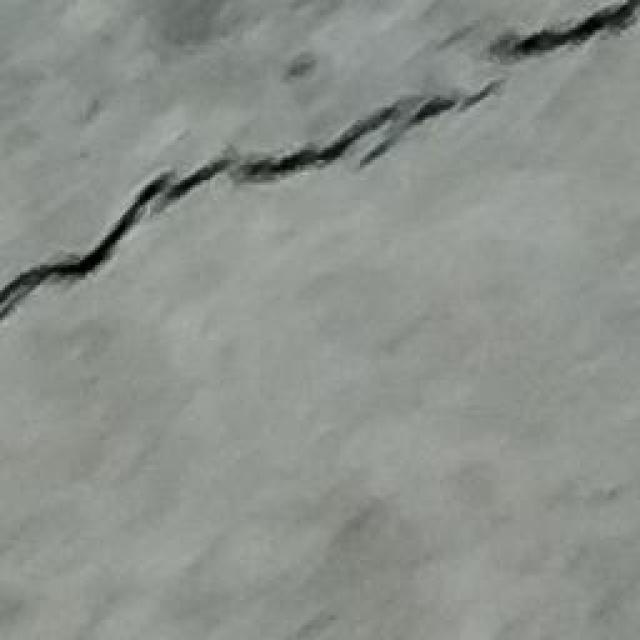Diagonal: (0, 0, 640, 327)
